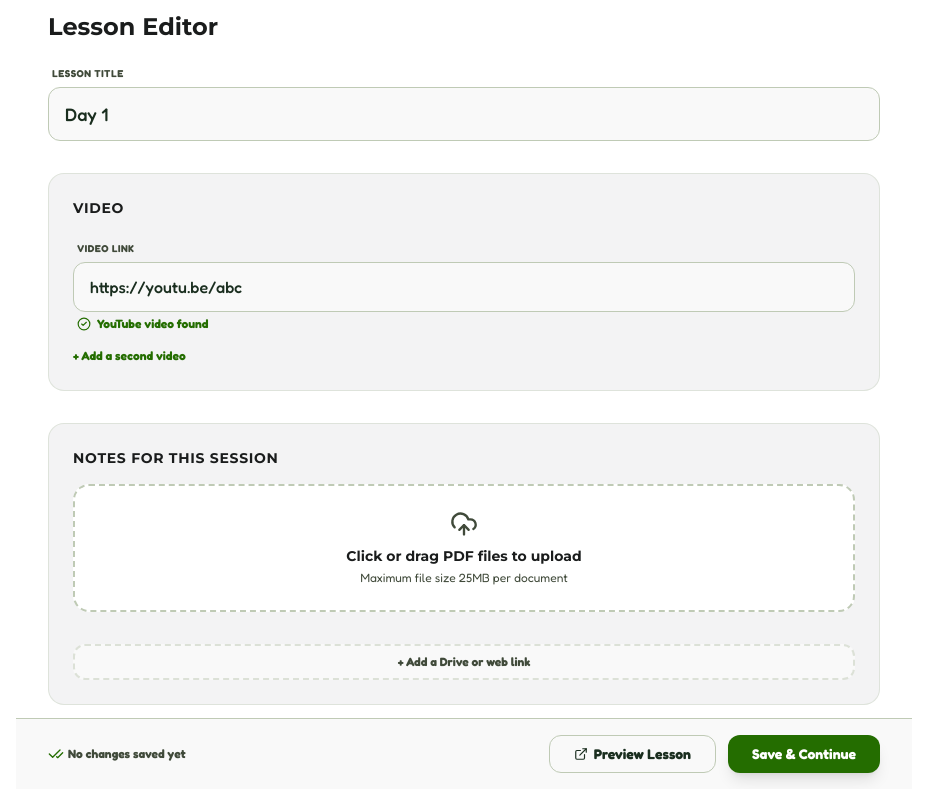
it: fix round 1 › a failed video save reverts the field
Expected: the heading "Notes for this session" is shown, [73, 449, 279, 467]
Clear the field labelled "Video link": (464, 287) [73, 262, 855, 312]
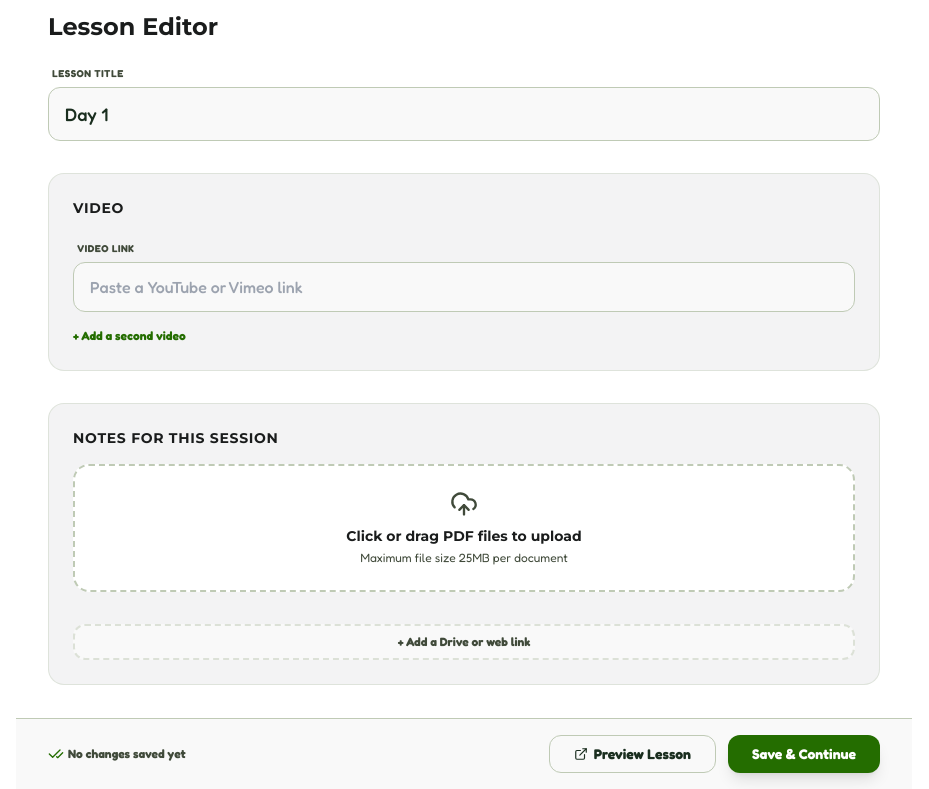
Leave the field labelled "Video link", box [73, 262, 855, 312]
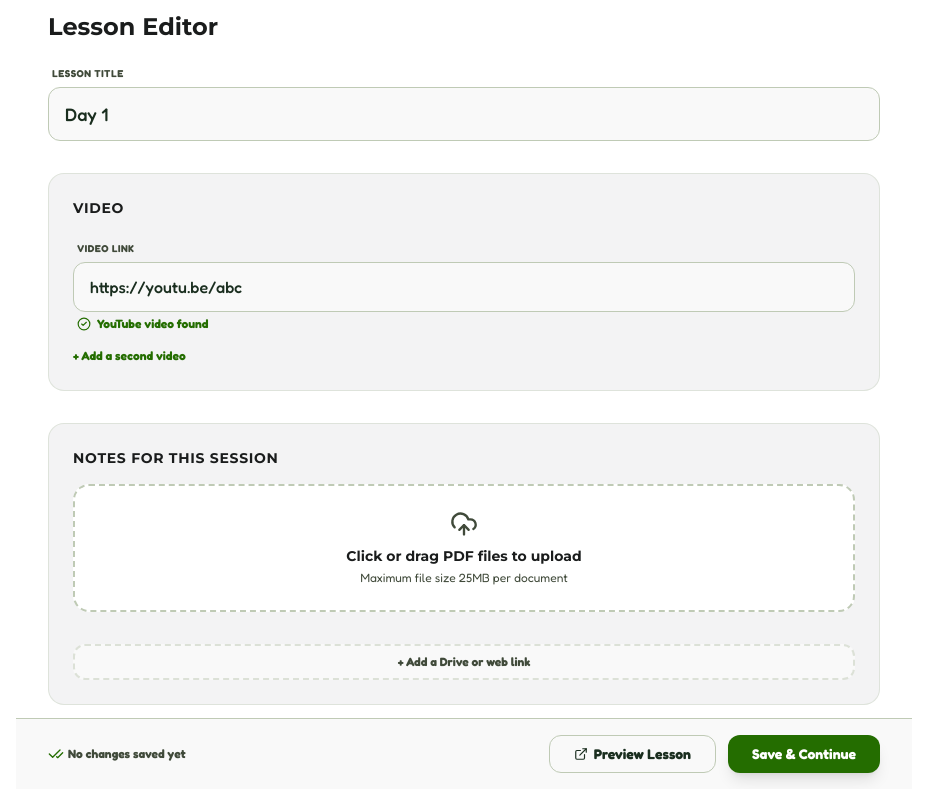
Now the field labelled "Video link" holds "https://youtu.be/abc", box [73, 262, 855, 312]
